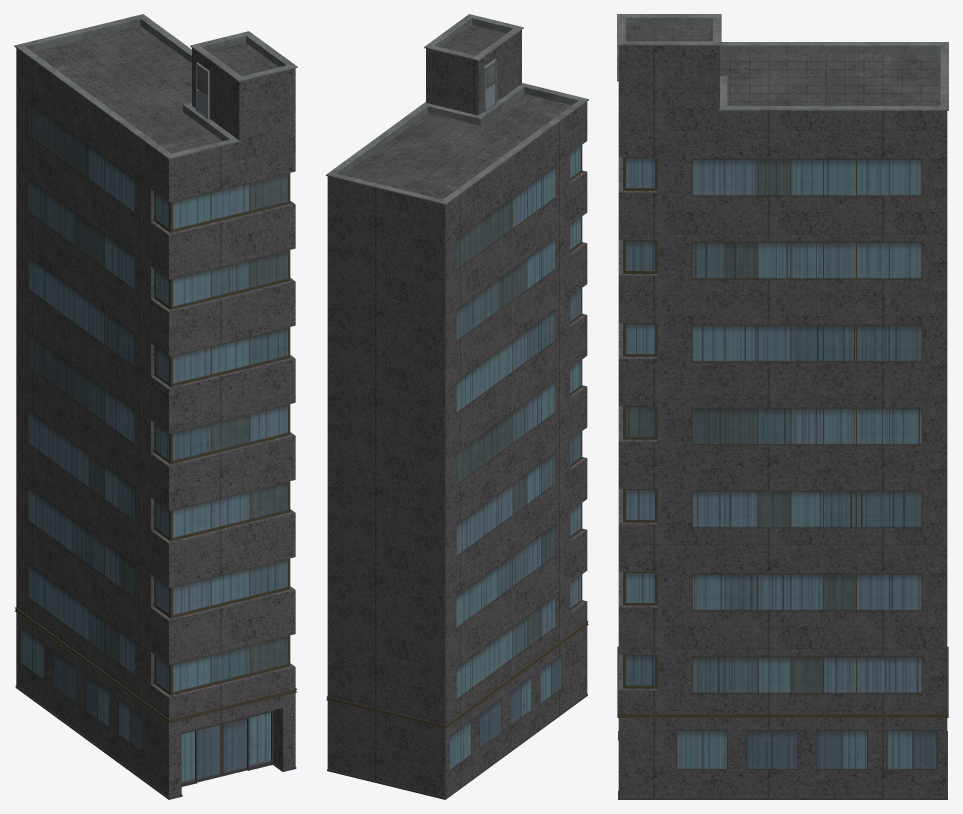
Rendered from jctBld12_6B_low.fbx.
3 renders of one model, left to right at view 1: azimuth 30°, elevation 25°; view 2: azimuth 150°, elevation 25°; view 3: azimuth 270°, elevation 25°, orthographic. The views are drawn at different scales.
Visible parts, largest first — view 1: jctBld12_6B_low; view 2: jctBld12_6B_low; view 3: jctBld12_6B_low.
Boxes of the visible parts, x1,y1,x2,y2 form: jctBld12_6B_low: [14, 14, 297, 799]; jctBld12_6B_low: [326, 14, 588, 799]; jctBld12_6B_low: [617, 14, 948, 799].
Size of the model in its own units: 560 by 2915 by 1160.
